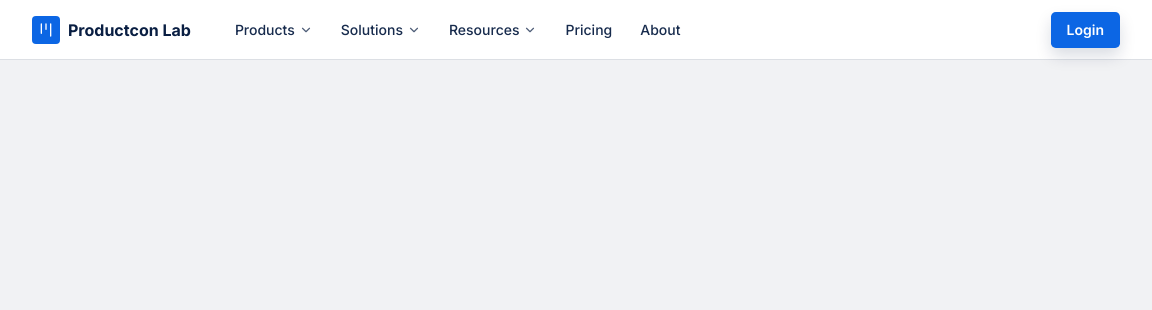
LandingNav › shows TaskFlow as Live in dropdown
Click the button "Products": (274, 30) [223,12,325,48]
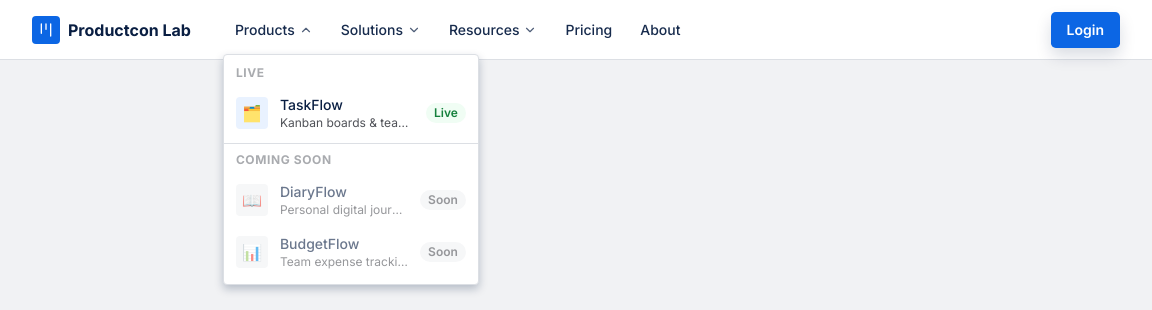
Expected: the 1st text "Live" is shown, [236,64,265,80]
